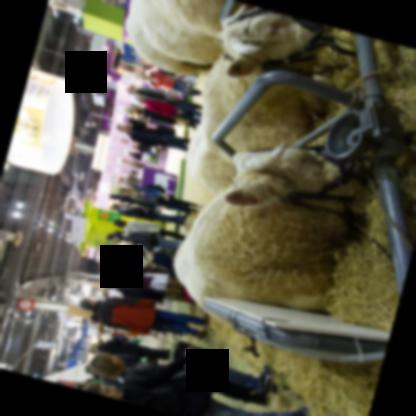backpack: (134, 183, 166, 192)
handbag: (141, 272, 169, 289), (134, 183, 165, 192), (156, 123, 175, 130)
suitcase: (153, 330, 215, 365)
